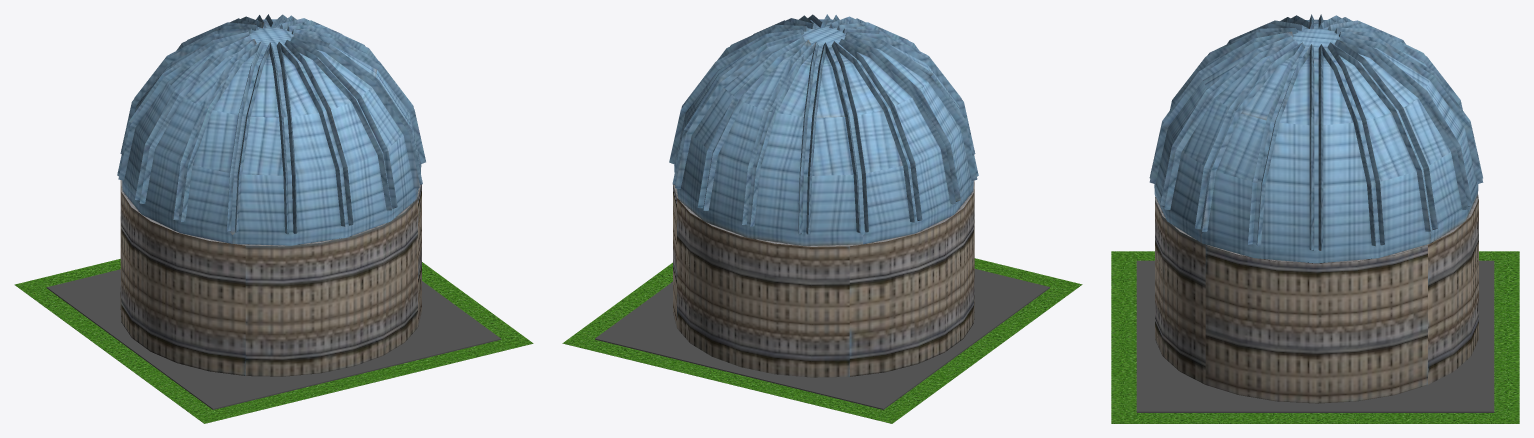
The model's file is main_zone.FBX.
The picture shows the model from 3 angles, left to right: view 1: azimuth 30°, elevation 25°; view 2: azimuth 150°, elevation 25°; view 3: azimuth 270°, elevation 25°; orthographic projection. The views are drawn at different scales.
Parts seen in each view (by area): view 1: Sphere001, Box003, Box002; view 2: Sphere001, Box003, Box002; view 3: Sphere001, Box003, Box002.
Part boxes in pixels (x1,y1,x2,y2): Sphere001: (117,14,425,376); Box003: (46,269,501,409); Box002: (14,259,533,423); Sphere001: (669,14,978,377); Box003: (595,269,1049,409); Box002: (562,258,1082,423); Sphere001: (1149,14,1483,403); Box003: (1136,260,1494,412); Box002: (1111,251,1519,423).
Bounding box in the file's own units: 800 × 655 × 800.
